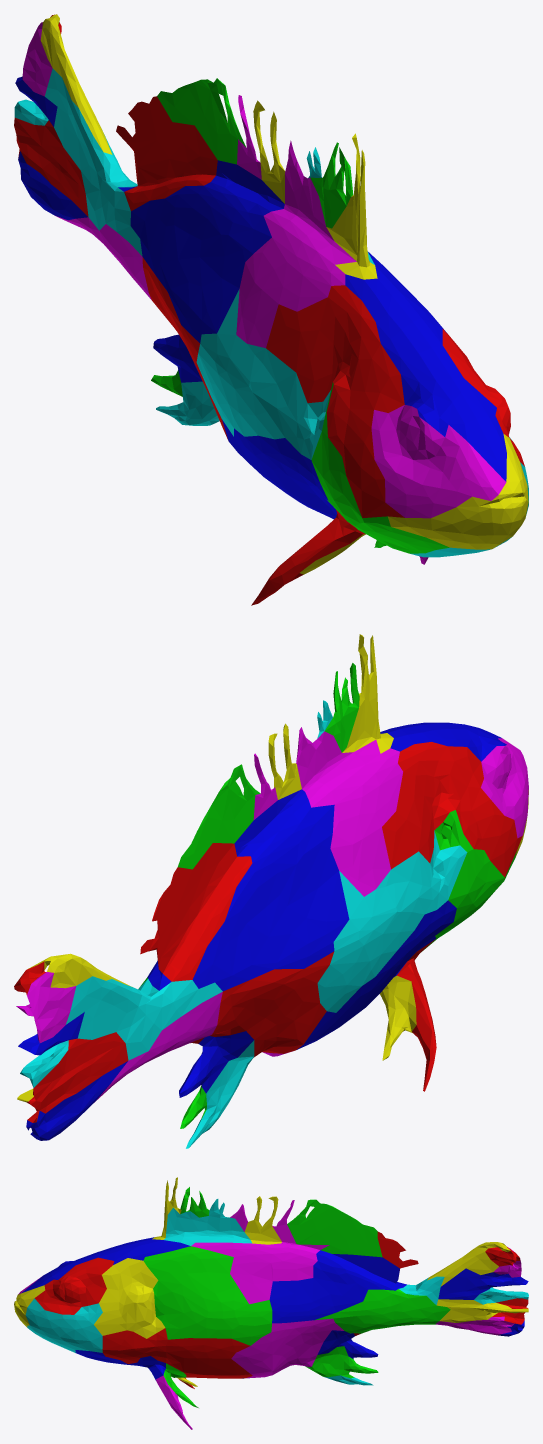
File: boguchi_nanite_LOD0.fbx
3 views of the same model, one above another, from view 1: azimuth 30°, elevation 25°; view 2: azimuth 150°, elevation 25°; view 3: azimuth 270°, elevation 25° (orthographic). The views are drawn at different scales.
Size of the model in its own units: 0.194 by 0.5002 by 0.9999.
